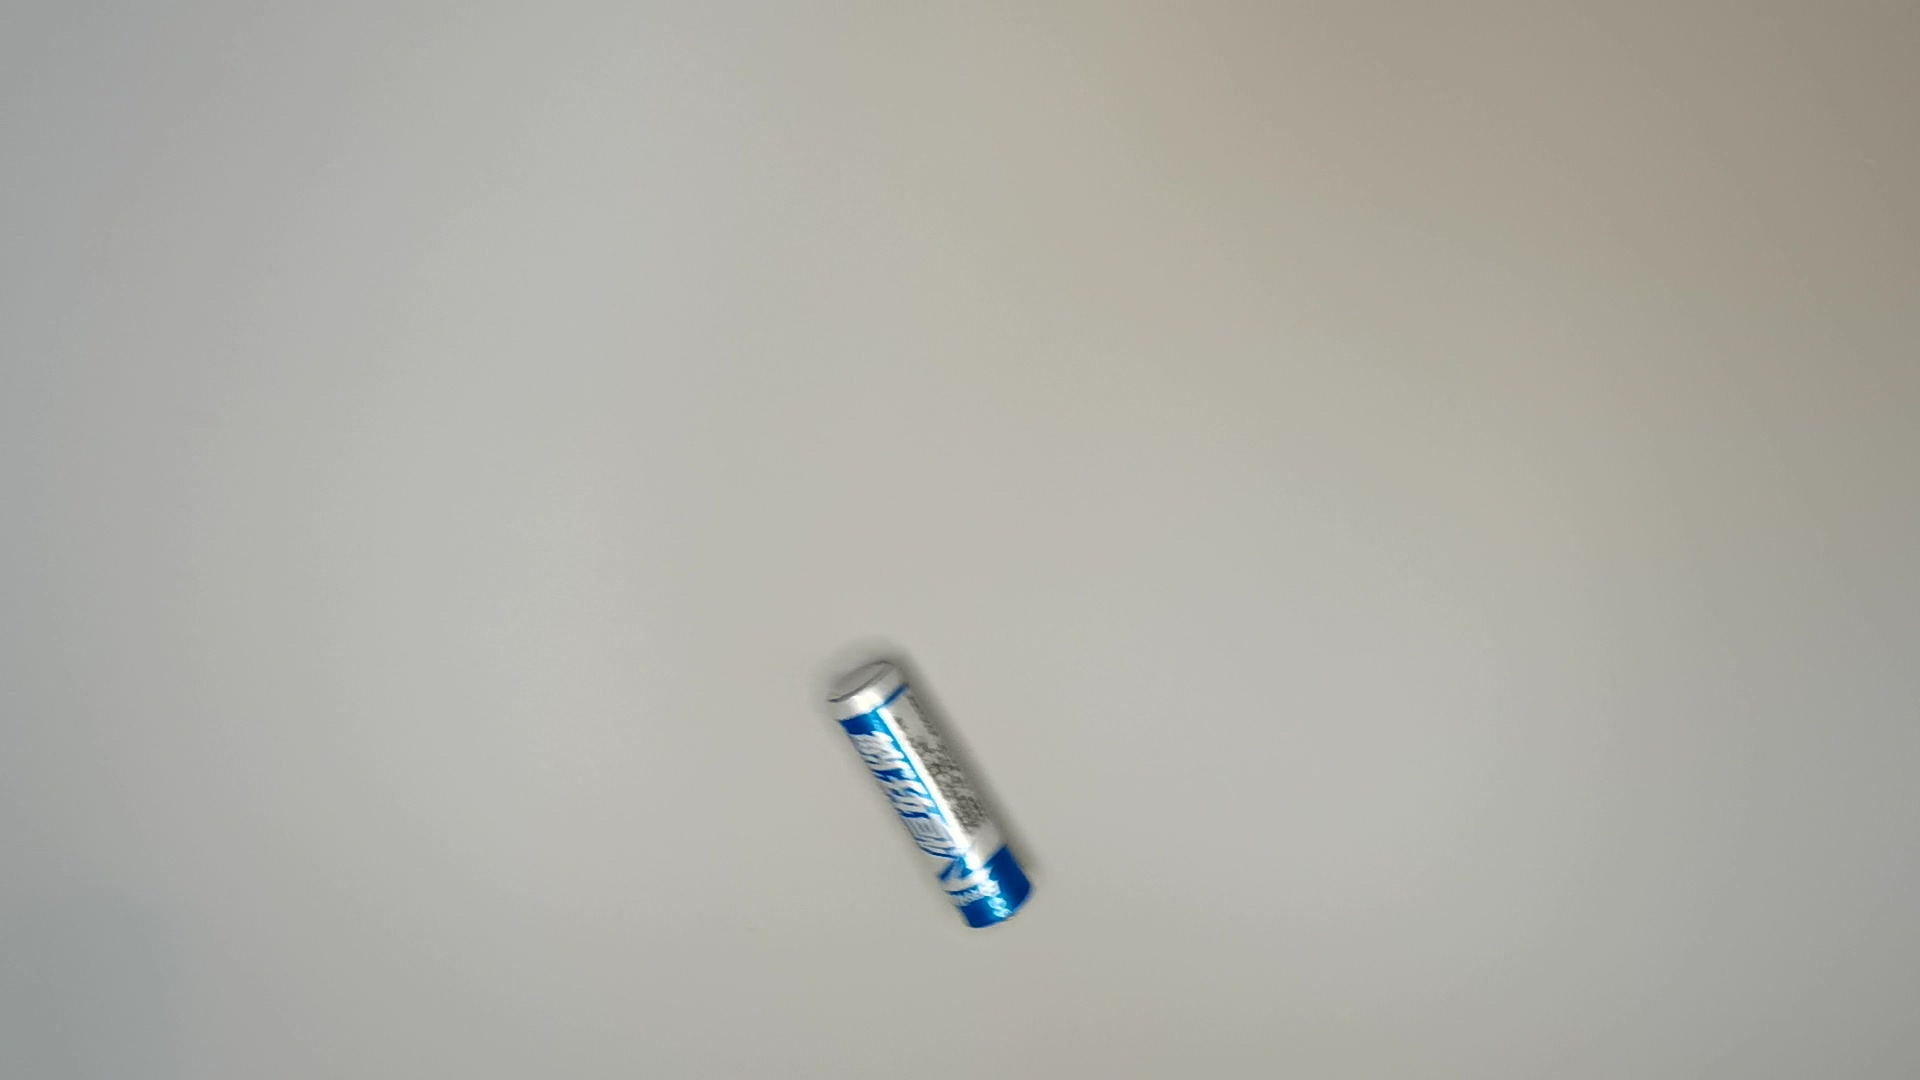battery: (822, 657, 1044, 942)
